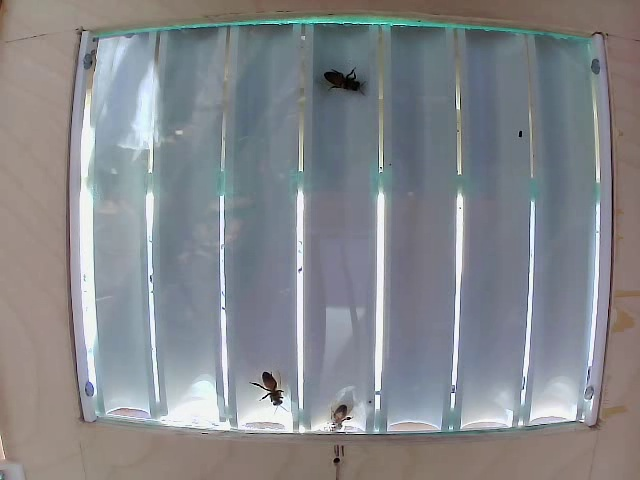bee: (318, 55, 362, 113), (250, 365, 294, 409)
